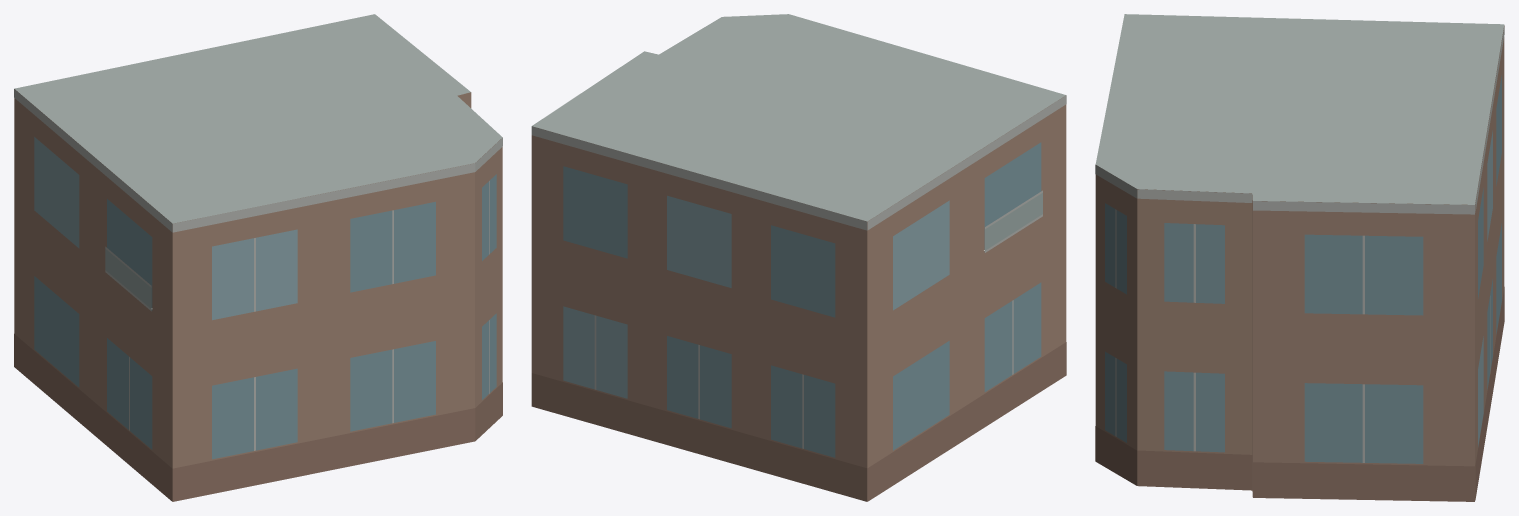
File: survey-upis-32962852.glb
3 views of the same model, side by side, from view 1: azimuth 30°, elevation 25°; view 2: azimuth 150°, elevation 25°; view 3: azimuth 270°, elevation 25° (orthographic). The views are drawn at different scales.
Visible parts, largest first — view 1: survey-upis-32962852.tmp; view 2: survey-upis-32962852.tmp; view 3: survey-upis-32962852.tmp.
Part boxes in pixels (box(x1,y1,x2,y2)): survey-upis-32962852.tmp: box(14, 14, 502, 501); survey-upis-32962852.tmp: box(531, 14, 1066, 501); survey-upis-32962852.tmp: box(1095, 14, 1504, 501).
Size of the model in its own units: 10.35 by 7.5 by 9.37.
